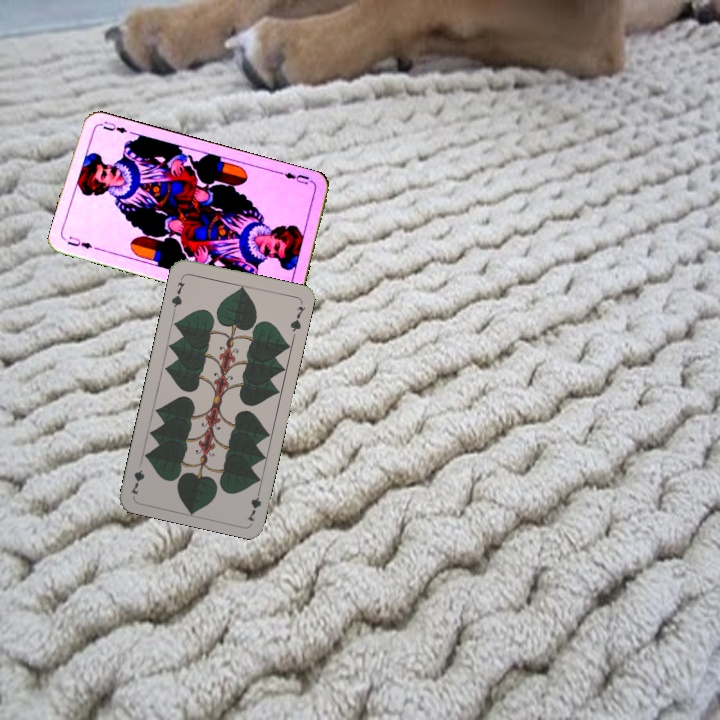EU: (277, 168, 316, 188), (63, 232, 95, 251)
G7: (243, 483, 264, 524), (167, 273, 187, 313)
